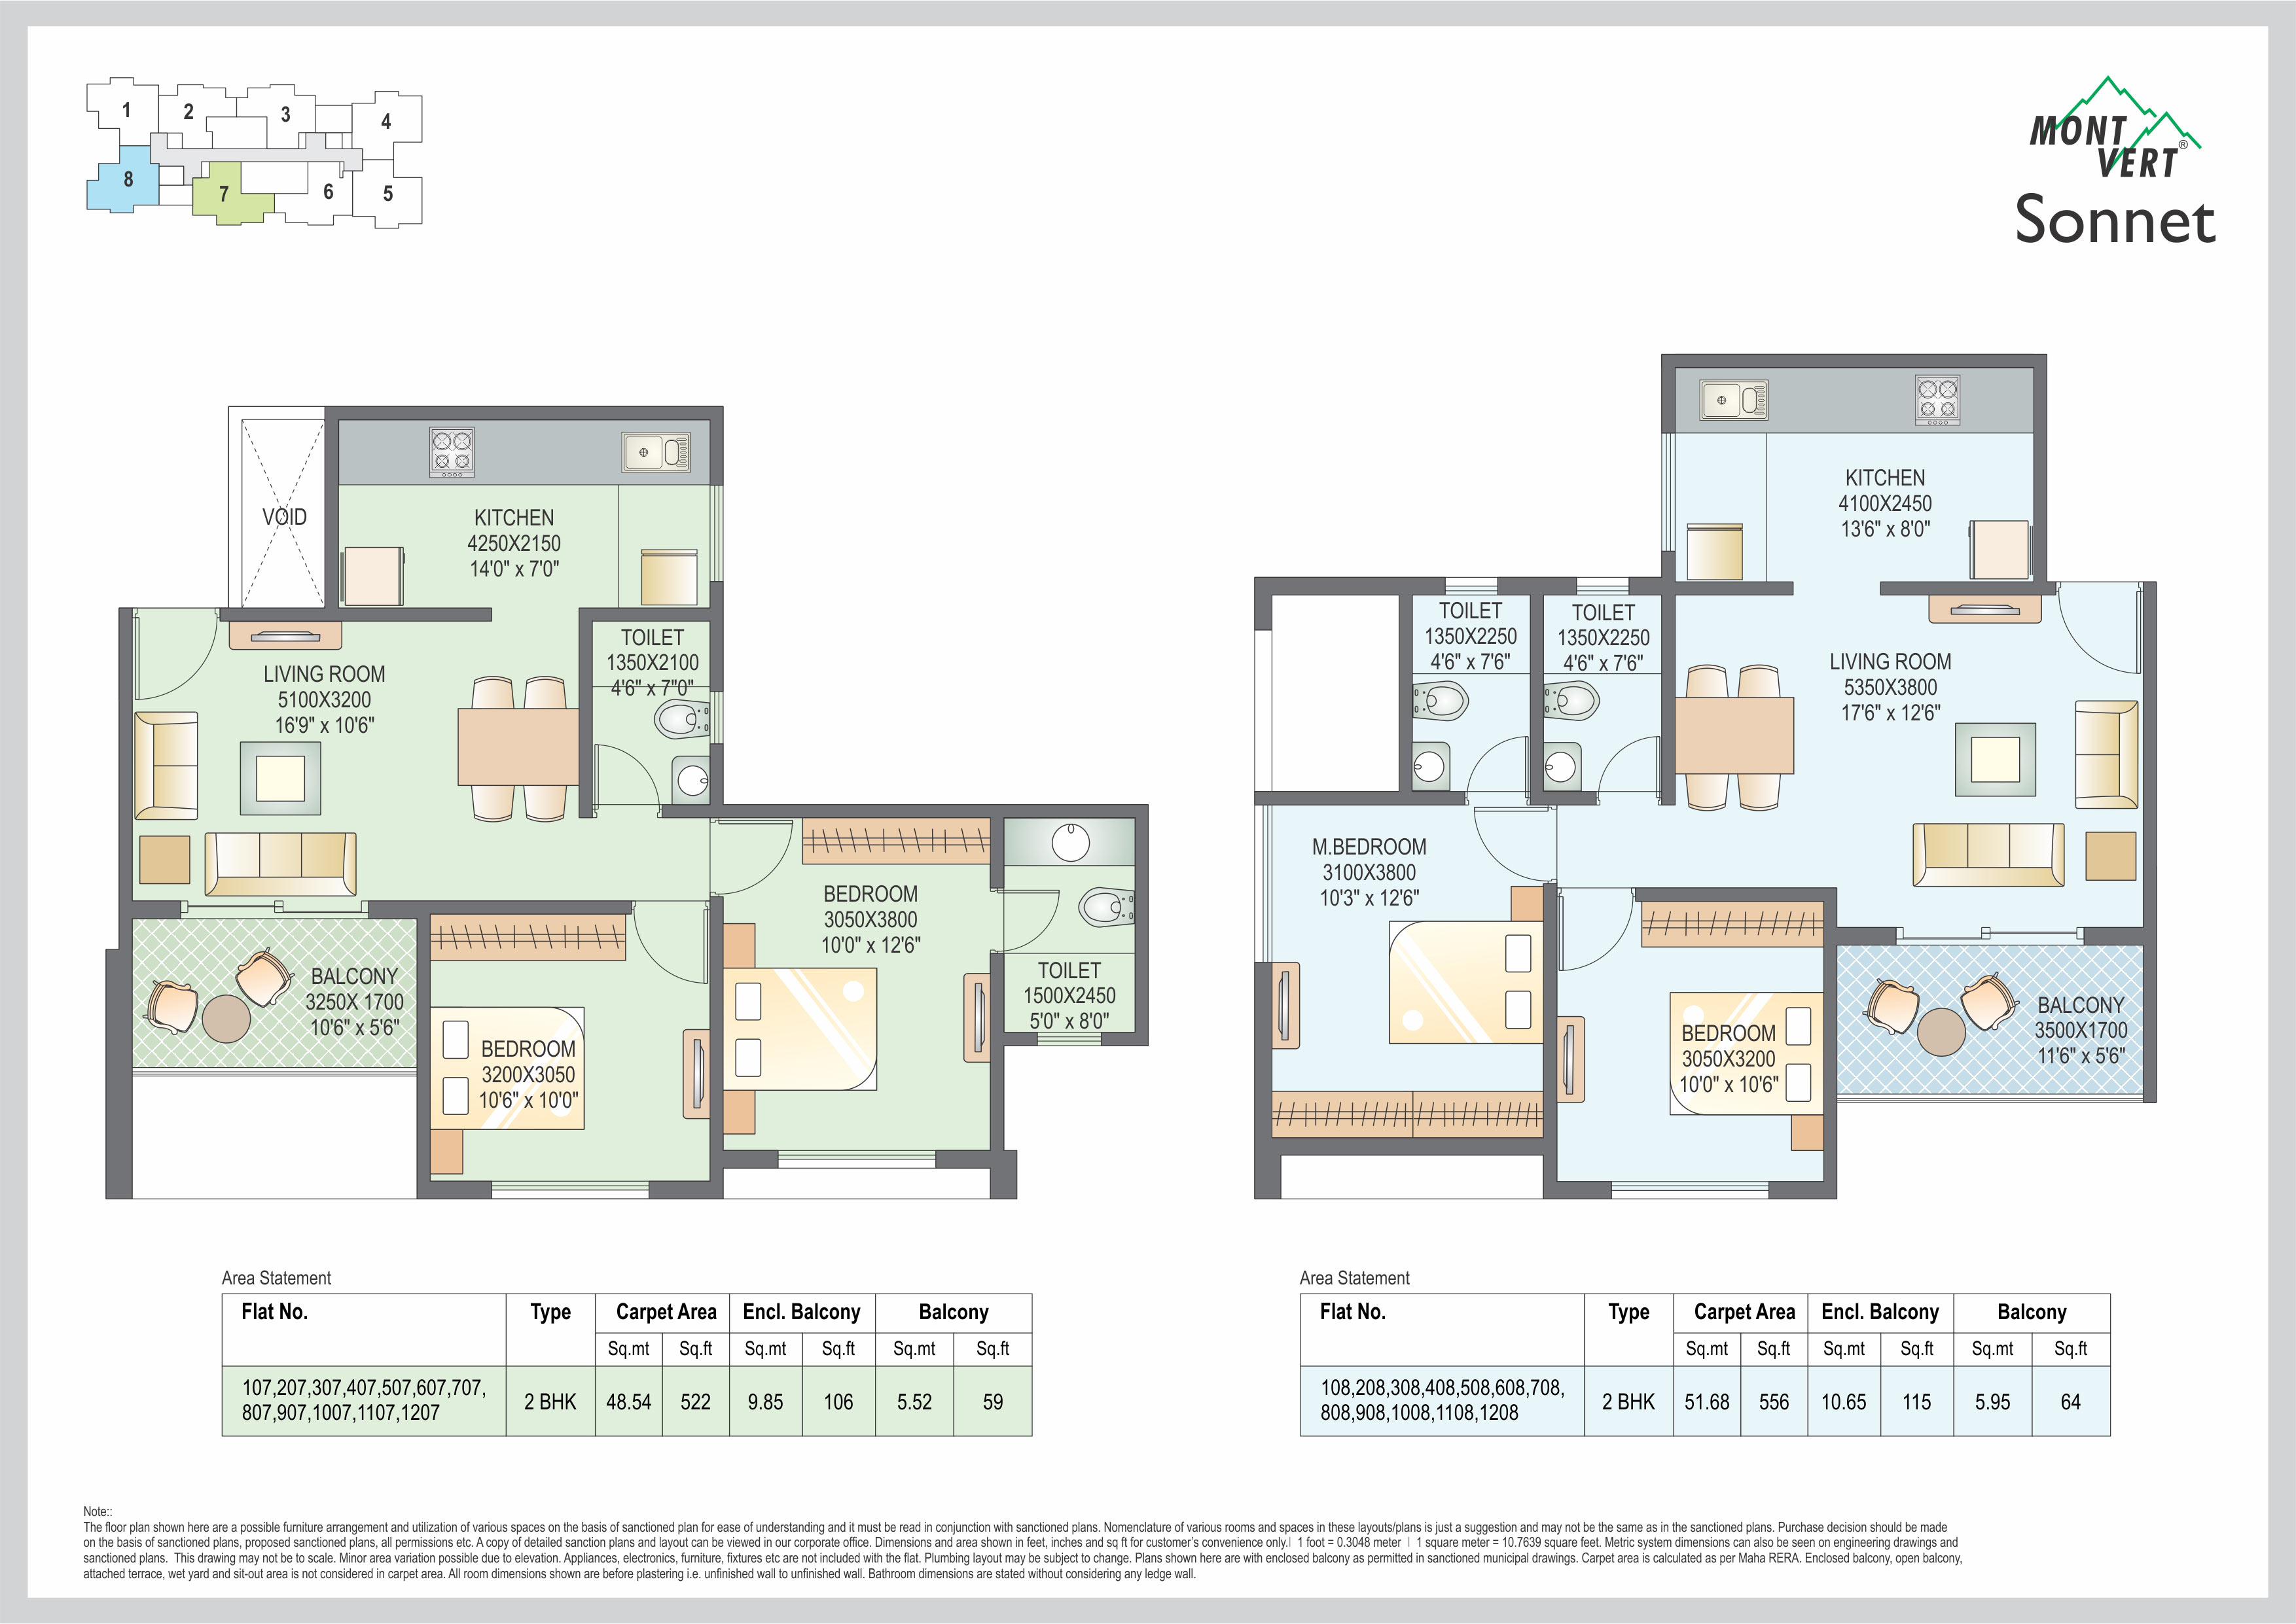window: (489, 1178, 652, 1202), (1252, 801, 1276, 965), (777, 1146, 939, 1171), (1609, 1179, 1772, 1200), (1658, 431, 1681, 555), (705, 478, 726, 587), (1442, 573, 1507, 599), (1570, 573, 1635, 599), (1035, 1028, 1104, 1048), (707, 685, 728, 747)
